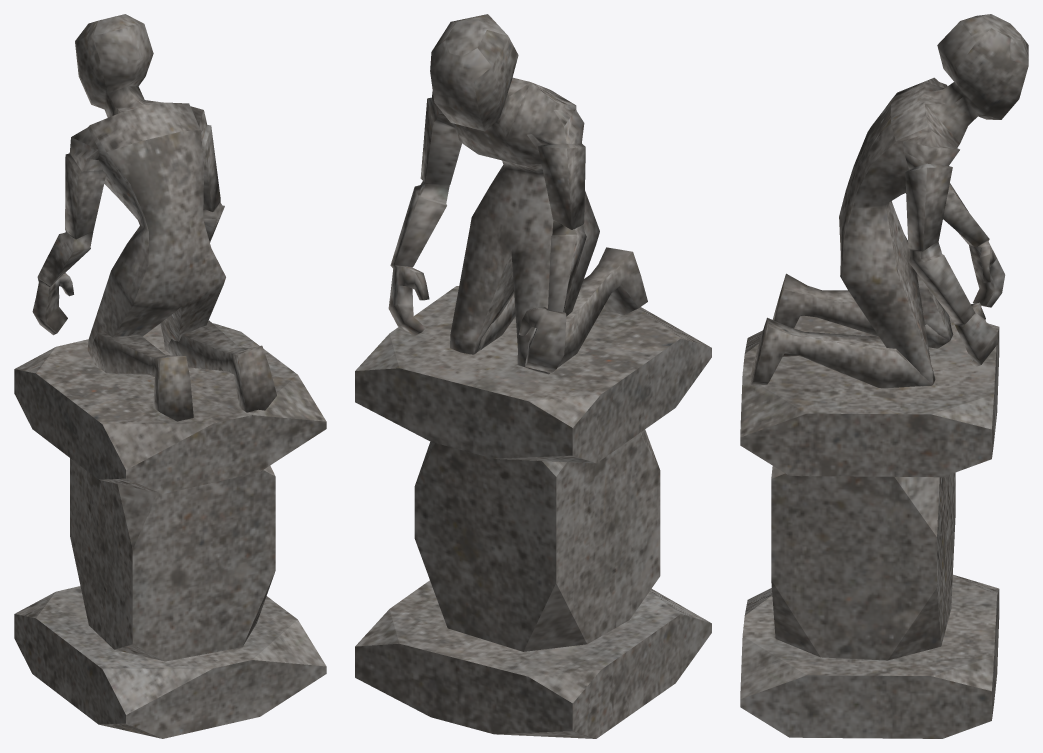
File: Statue.fbx
The picture shows the model from 3 angles, left to right: view 1: azimuth 30°, elevation 25°; view 2: azimuth 150°, elevation 25°; view 3: azimuth 270°, elevation 25°; orthographic projection. The views are drawn at different scales.
Parts seen in each view (by area): view 1: Statue; view 2: Statue; view 3: Statue.
Part boxes in pixels (x1,y1,x2,y2): Statue: (14, 14, 326, 738); Statue: (355, 14, 711, 738); Statue: (740, 14, 1028, 738).
Bounding box in the file's own units: 0.6761 × 1.99 × 0.7787.
